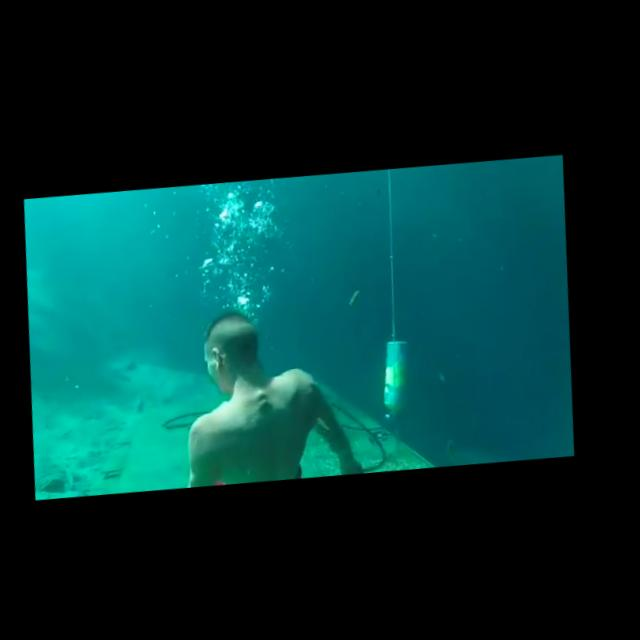human: (166, 294, 383, 490)
